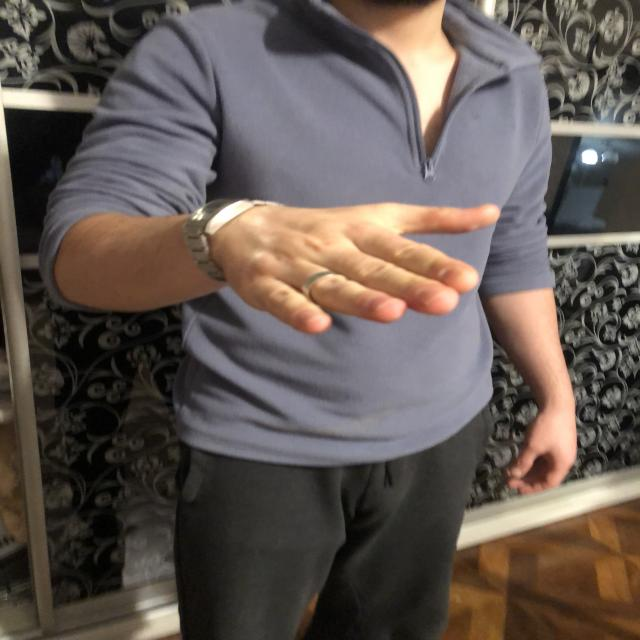paper: (245, 206, 500, 330)
